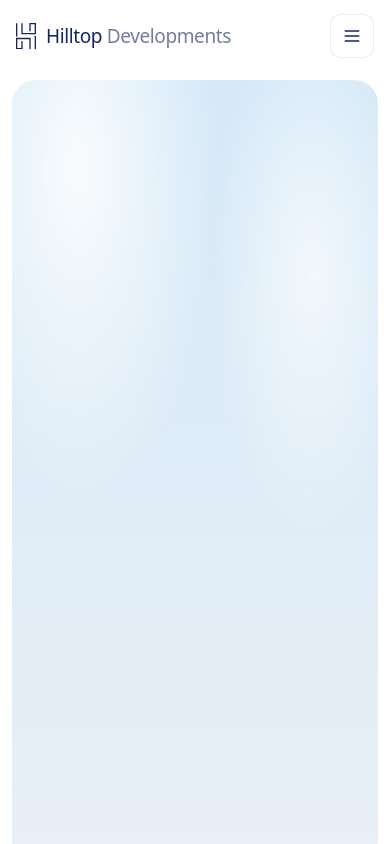
it: navigation › closes the mobile menu when the current page is chosen again
Click the button named "Open menu": {"x": 352, "y": 36} [330, 14, 374, 58]
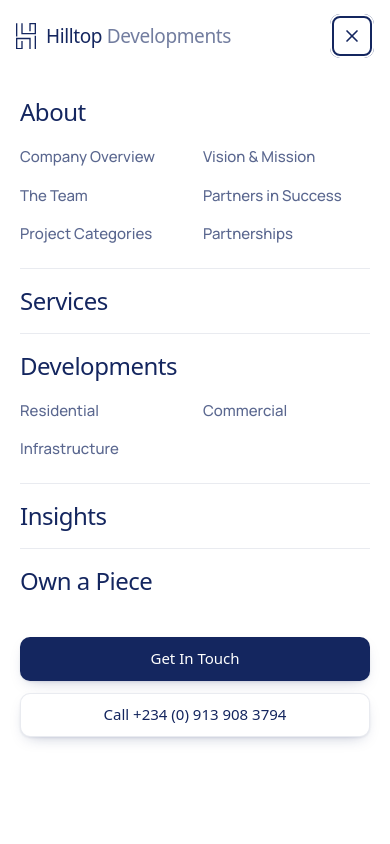
Click the link "About": {"x": 53, "y": 112} [20, 95, 86, 128]
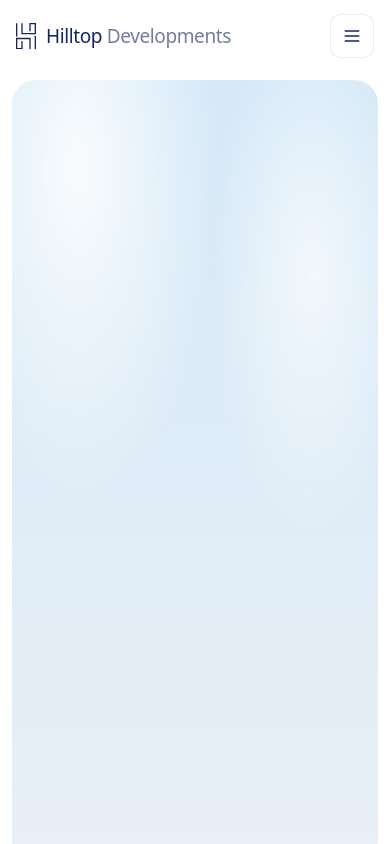
expect the navigation bar "Mobile" is gone: met
